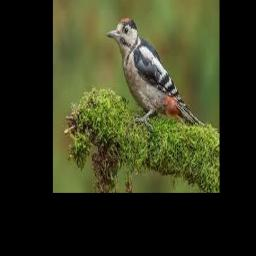Woodpecker: (107, 17, 204, 127)
